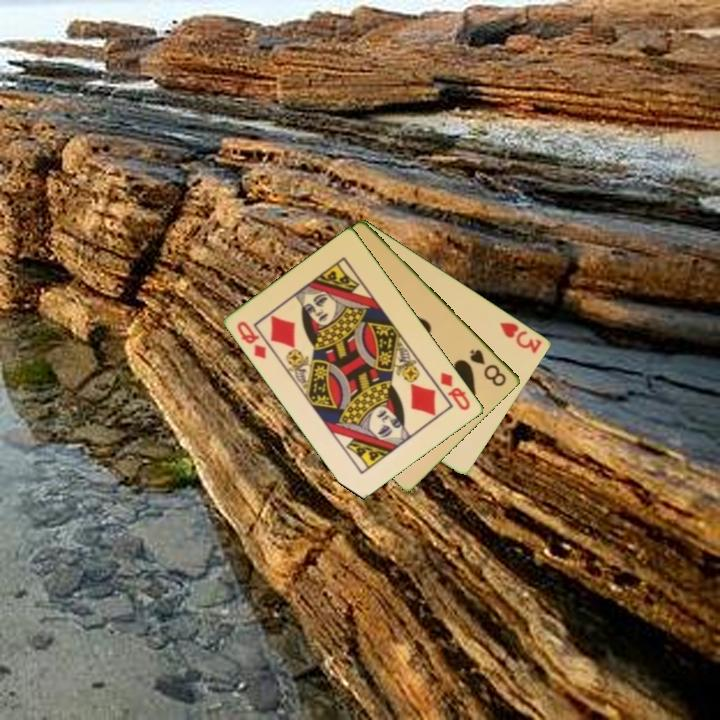3h: (497, 318, 545, 356)
8s: (467, 345, 510, 390)
Qd: (437, 368, 473, 414), (234, 317, 270, 362)
